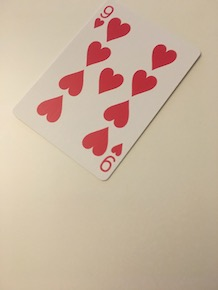NineOfHearts: (10, 1, 202, 182)
